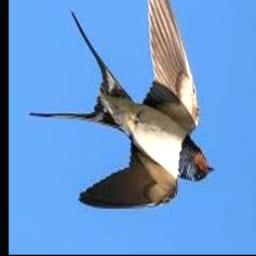Swallow: (29, 0, 214, 209)
